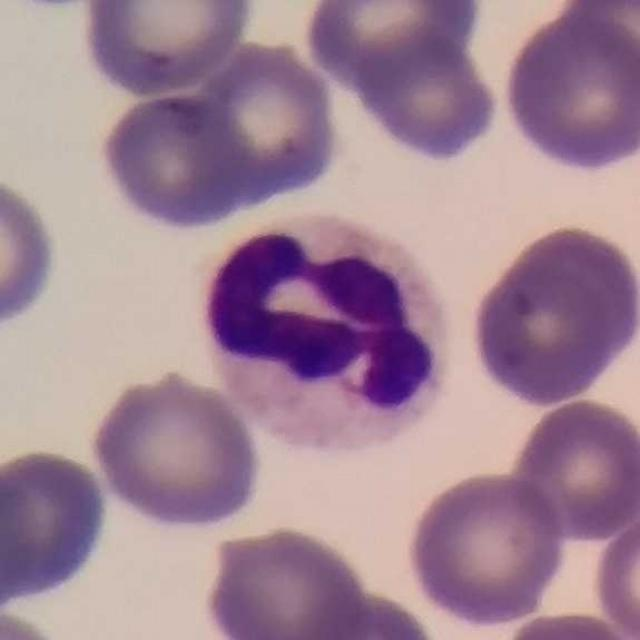Neutrophil: (185, 198, 465, 468)
RBC: (91, 50, 342, 237), (463, 218, 640, 409), (85, 366, 266, 534), (403, 467, 570, 629), (498, 7, 640, 176), (347, 32, 503, 166), (200, 521, 375, 640), (504, 395, 640, 543), (0, 443, 116, 616), (77, 0, 258, 99), (299, 0, 487, 91), (0, 167, 63, 338), (283, 586, 445, 640), (558, 0, 640, 95), (590, 504, 640, 640), (496, 607, 639, 640), (0, 605, 72, 639)
